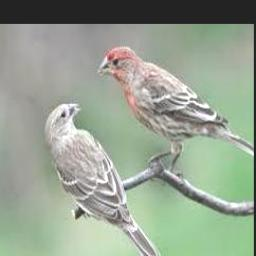Sparrow: (98, 46, 254, 173), (44, 103, 162, 256)
